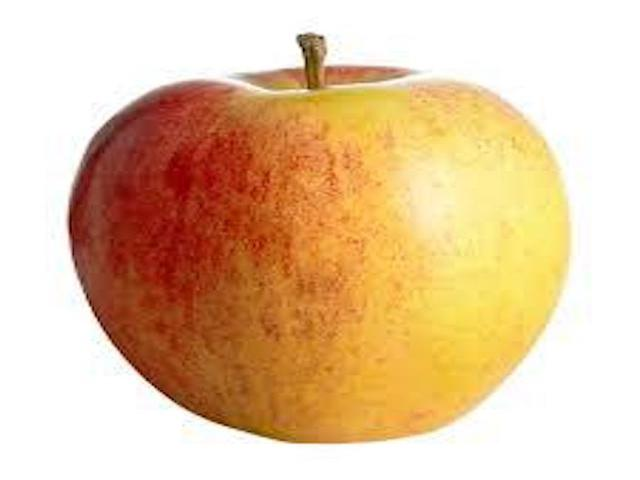apple: (56, 25, 581, 448)
